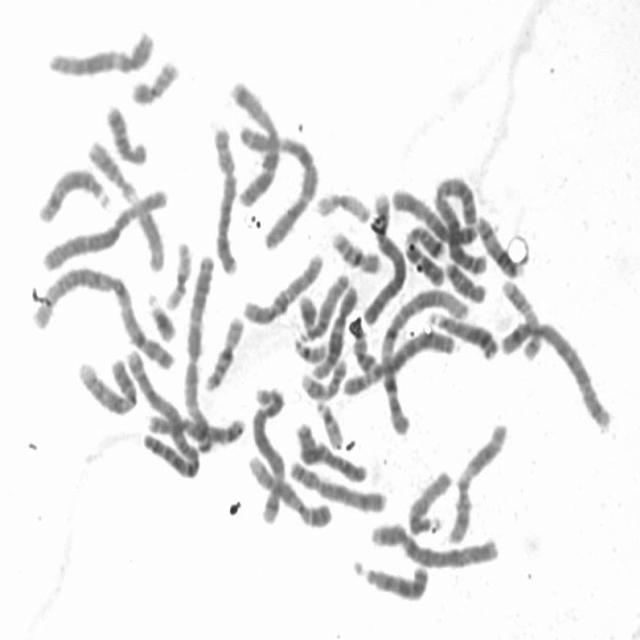A1: (28, 259, 180, 373), (377, 282, 469, 436)
A2: (119, 342, 201, 482), (430, 172, 489, 276)
A3: (236, 119, 322, 252), (181, 250, 219, 453)
B4: (368, 516, 503, 570), (360, 185, 408, 327)
B5: (498, 313, 615, 432), (248, 383, 287, 525)
C10: (238, 246, 326, 327), (144, 412, 247, 446)
C11: (83, 134, 166, 272), (444, 417, 510, 546)
C12: (44, 25, 158, 79), (309, 282, 361, 382)
C6: (36, 182, 170, 274), (338, 325, 456, 399)
C7: (225, 73, 284, 209), (401, 220, 448, 288)
C8: (286, 454, 391, 515), (208, 119, 241, 277)
C9: (246, 448, 334, 529), (74, 353, 139, 416)
D13: (425, 306, 500, 361), (350, 554, 432, 604)
D14: (34, 162, 113, 224), (473, 209, 525, 280)
D15: (296, 268, 352, 342), (404, 464, 454, 538)
E16: (201, 310, 246, 393), (328, 224, 383, 276)
E17: (498, 274, 544, 361), (297, 354, 350, 401)
E18: (102, 98, 150, 167), (440, 256, 487, 304)
F19: (162, 236, 194, 312), (312, 186, 372, 225)
F20: (127, 54, 182, 106), (346, 314, 377, 374)
G21: (144, 288, 178, 344), (296, 290, 318, 340)
G22: (312, 396, 346, 450), (290, 333, 329, 364)
X: (388, 182, 480, 246), (292, 416, 369, 484)
